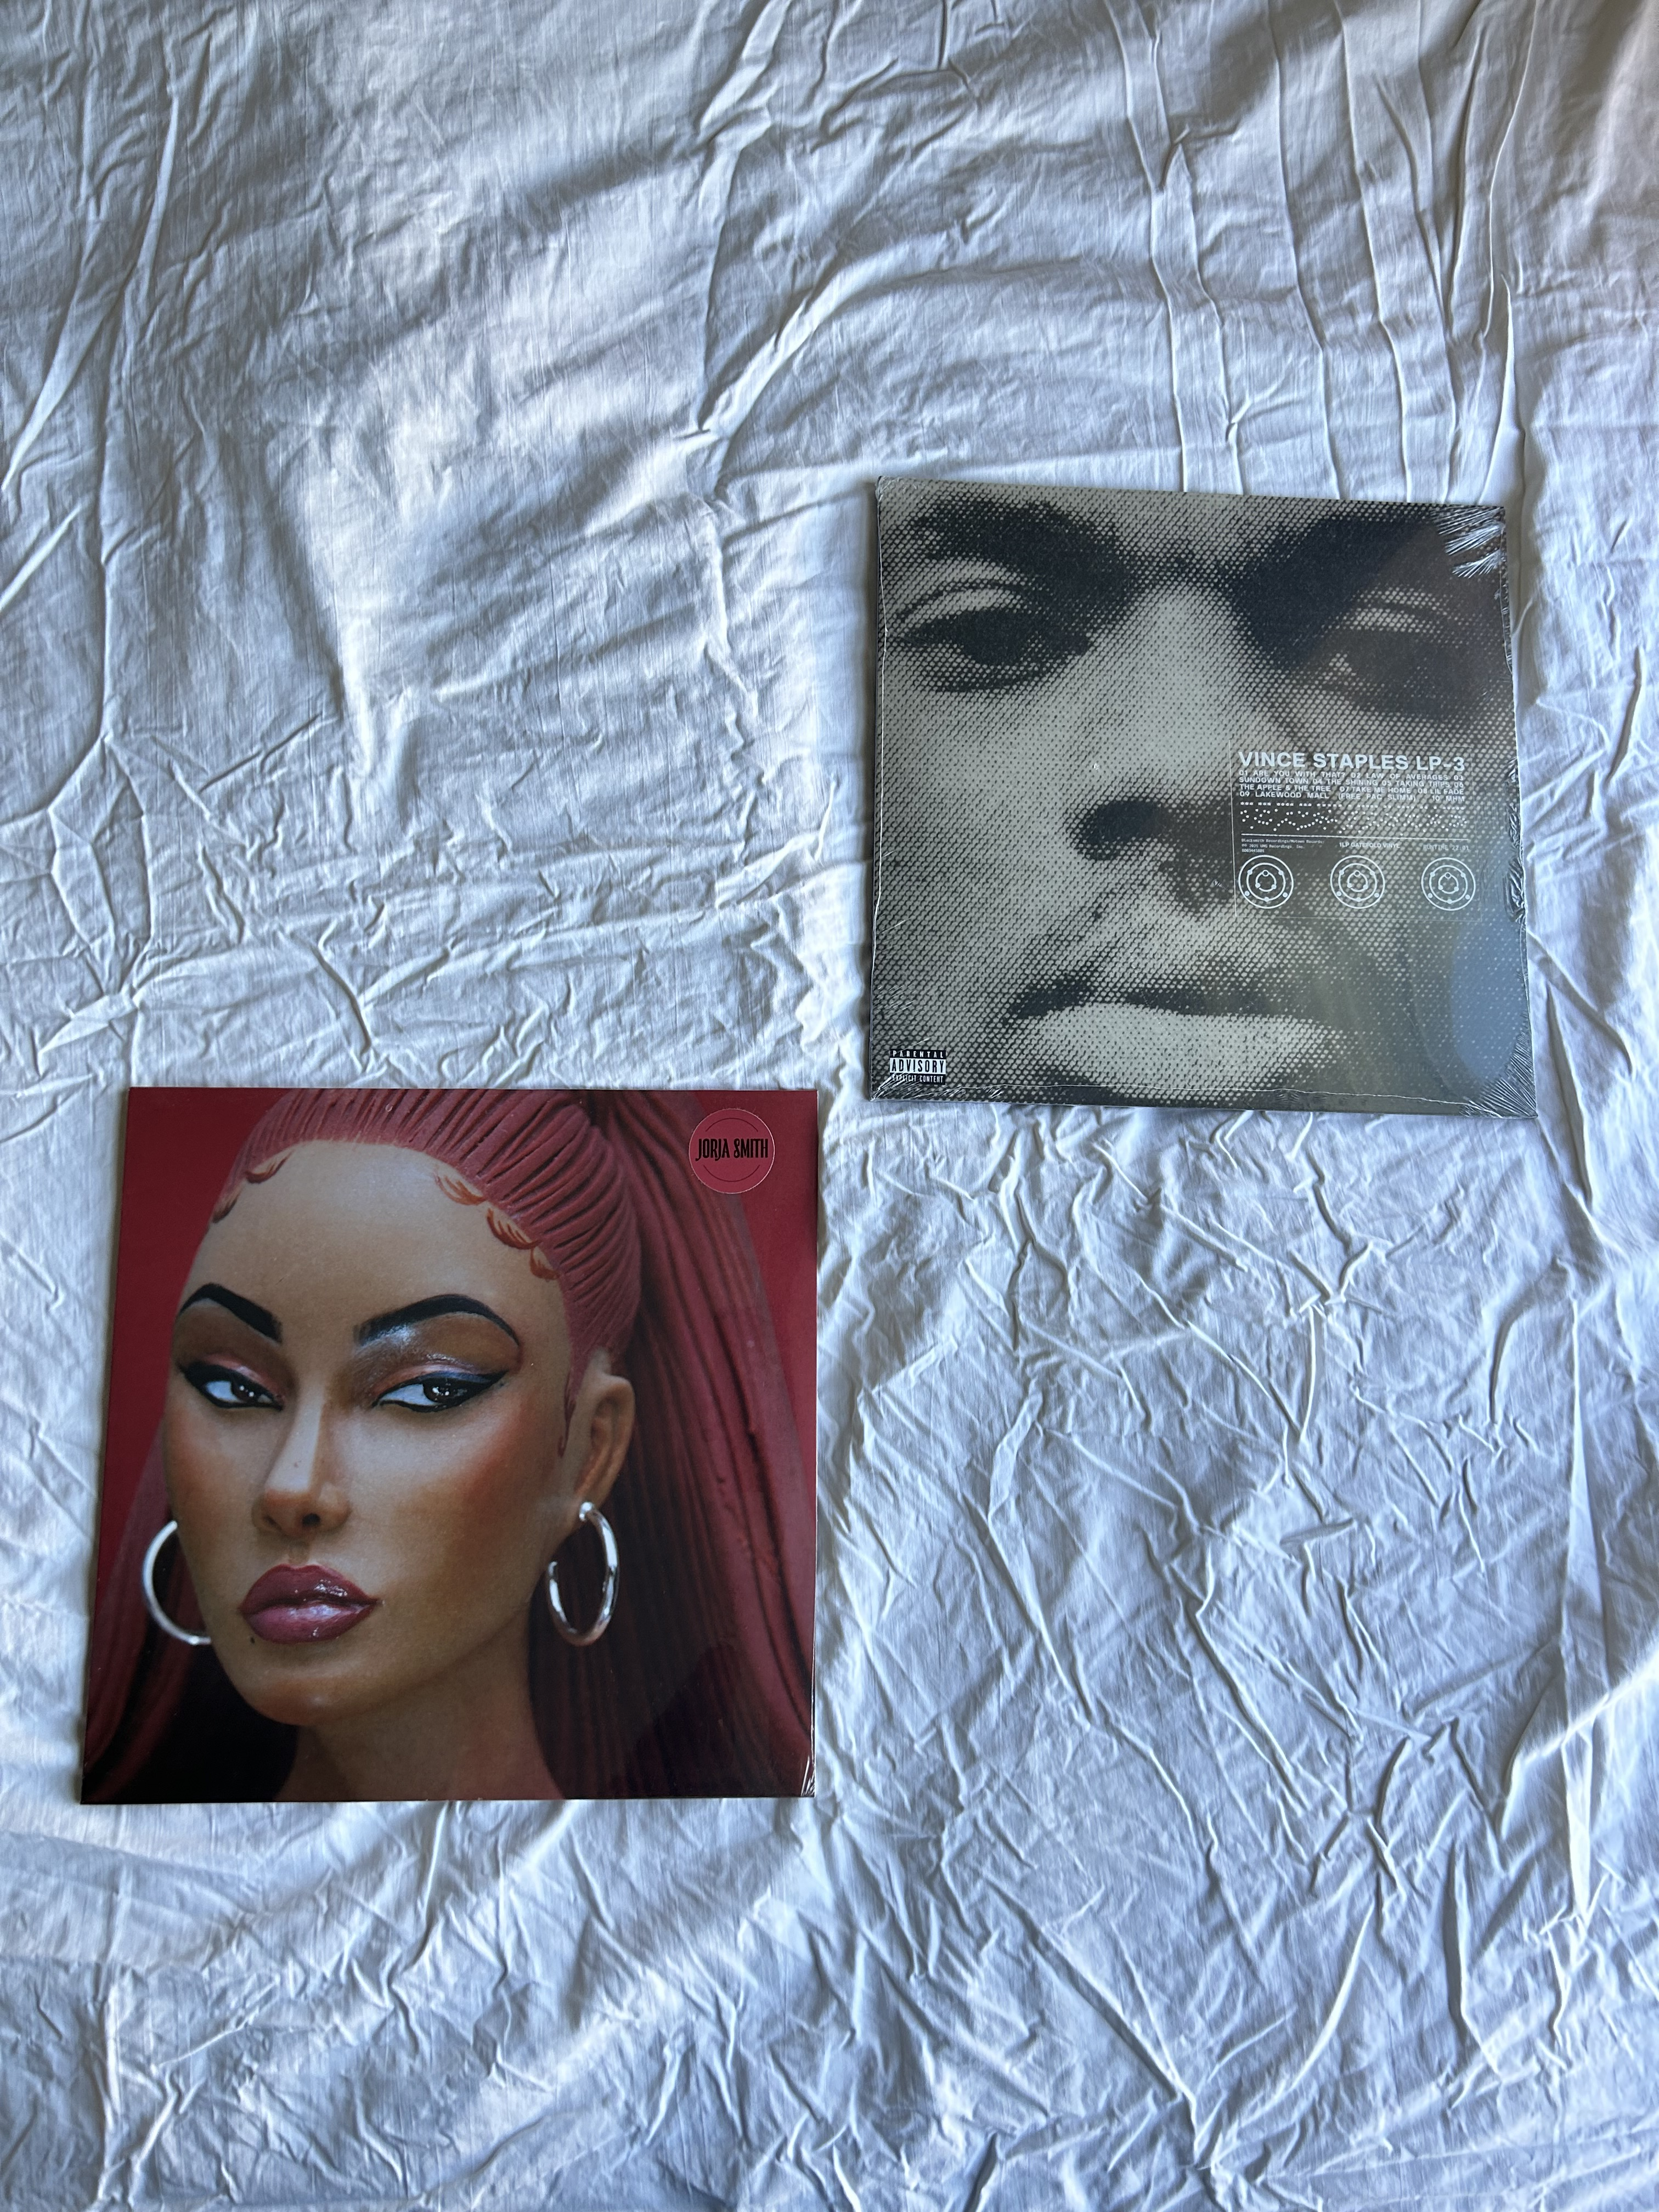jorja smith_be right back: (105, 1076, 833, 1794)
vince staples_vince staples: (868, 481, 1541, 1122)
